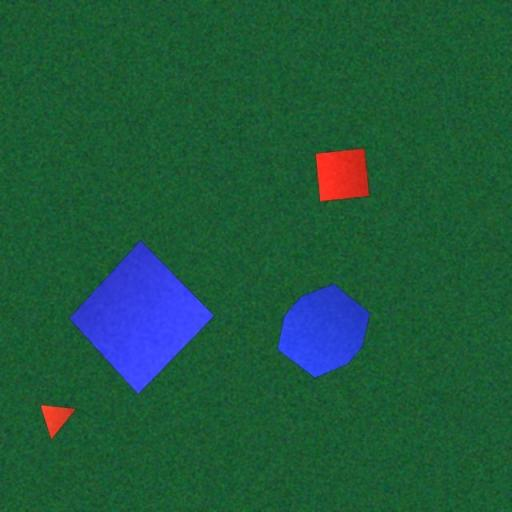BLUE_SQUARE: (69, 239, 215, 395)
RED_SQUARE: (315, 148, 370, 202)
